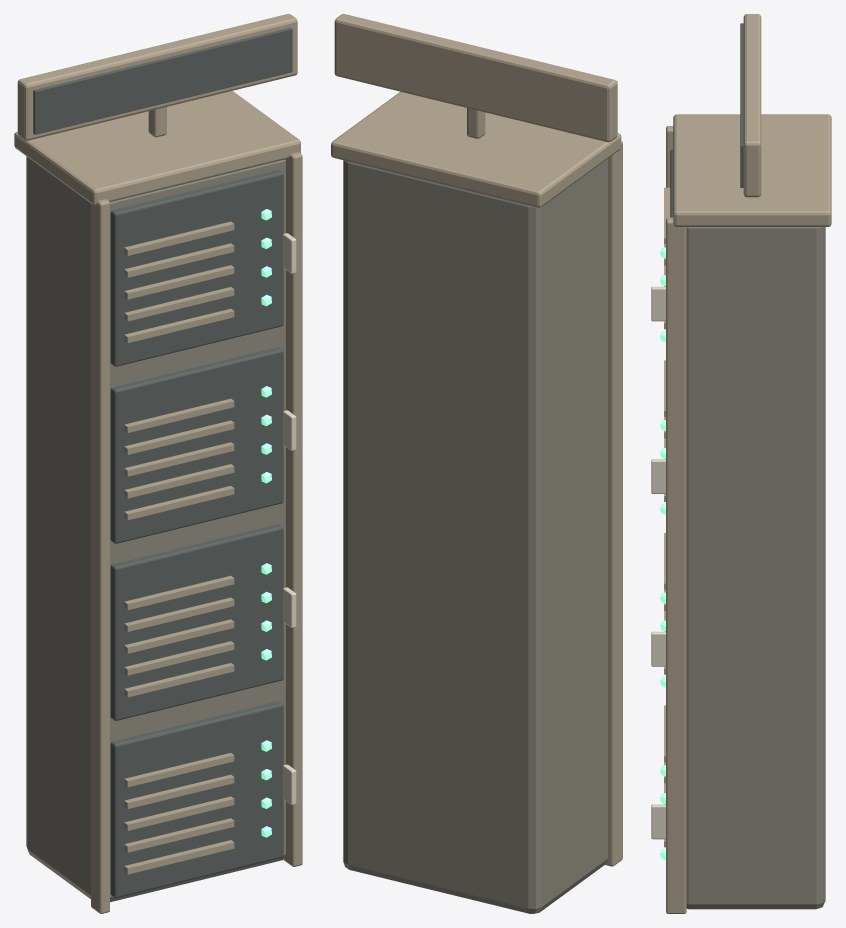
File: common_quota_wall_reset.glb
3 views of the same model, side by side, from view 1: azimuth 30°, elevation 25°; view 2: azimuth 150°, elevation 25°; view 3: azimuth 270°, elevation 25° (orthographic). The views are drawn at different scales.
Parts seen in each view (by area): view 1: common_quota_wall_reset__common-dark-timber, common_quota_wall_reset__common-brushed-brass, common_quota_wall_reset__common-sage, common_quota_wall_reset__common-ivory, common_quota_wall_reset__common-status-reset; view 2: common_quota_wall_reset__common-sage, common_quota_wall_reset__common-brushed-brass; view 3: common_quota_wall_reset__common-sage, common_quota_wall_reset__common-brushed-brass, common_quota_wall_reset__common-ivory, common_quota_wall_reset__common-dark-timber, common_quota_wall_reset__common-status-reset.
Boxes of the visible parts, bbox=[...] form: common_quota_wall_reset__common-dark-timber: bbox=[33, 27, 292, 897]; common_quota_wall_reset__common-brushed-brass: bbox=[14, 14, 302, 913]; common_quota_wall_reset__common-sage: bbox=[26, 156, 285, 902]; common_quota_wall_reset__common-ivory: bbox=[283, 233, 296, 804]; common_quota_wall_reset__common-status-reset: bbox=[261, 209, 271, 837]; common_quota_wall_reset__common-sage: bbox=[343, 158, 608, 913]; common_quota_wall_reset__common-brushed-brass: bbox=[331, 14, 622, 866]; common_quota_wall_reset__common-sage: bbox=[686, 227, 825, 909]; common_quota_wall_reset__common-brushed-brass: bbox=[664, 14, 831, 913]; common_quota_wall_reset__common-ivory: bbox=[651, 286, 665, 839]; common_quota_wall_reset__common-dark-timber: bbox=[670, 23, 743, 217]; common_quota_wall_reset__common-status-reset: bbox=[660, 247, 665, 859].
Bounding box in the file's own units: 2.1 × 5.94 × 1.23.
